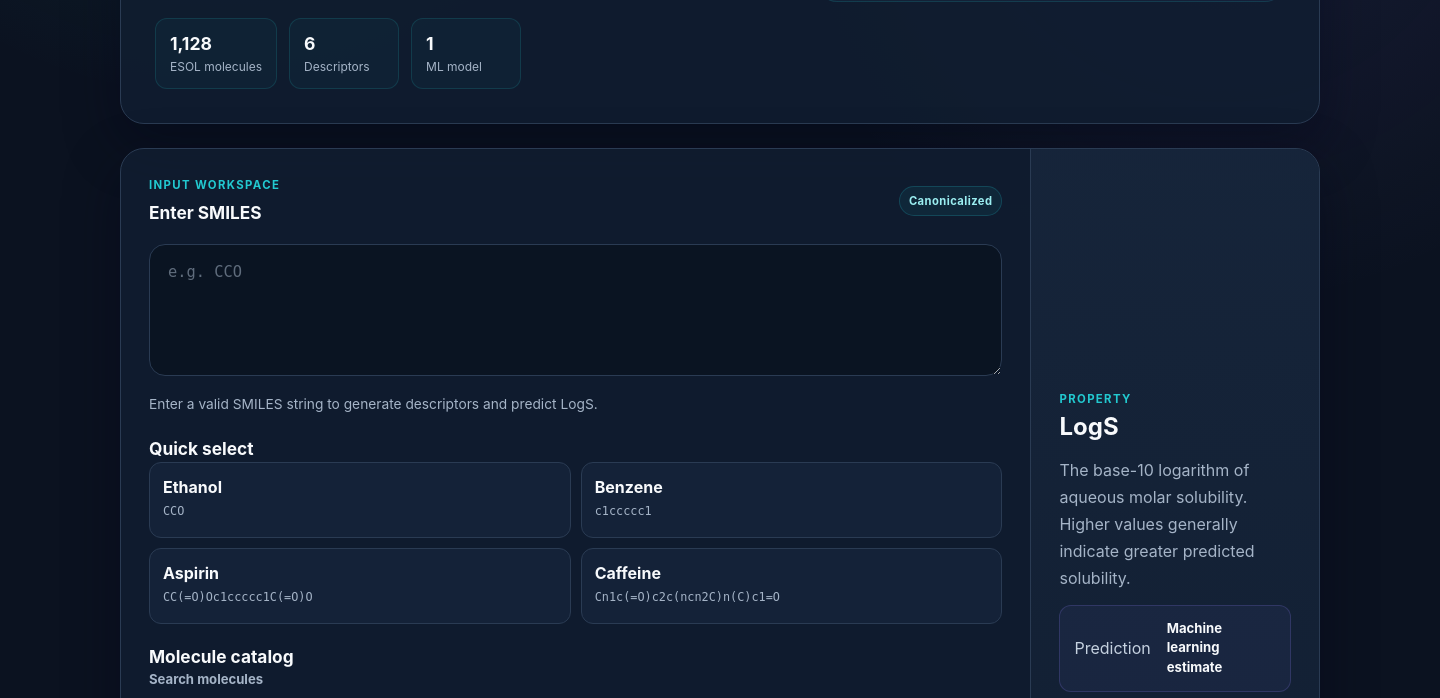
Test: Molecular Property Predictor › formats the aspirin formula with subscripts
The width and height of the screenshot is (1440, 698).
(page scrolled)
Type "CC(=O)Oc1ccccc1C(=O)O" into the text box named "SMILES".
click(576, 310); type("CC(=O)Oc1ccccc1C(=O)O")  # box [149, 244, 1002, 376]
(page scrolled)
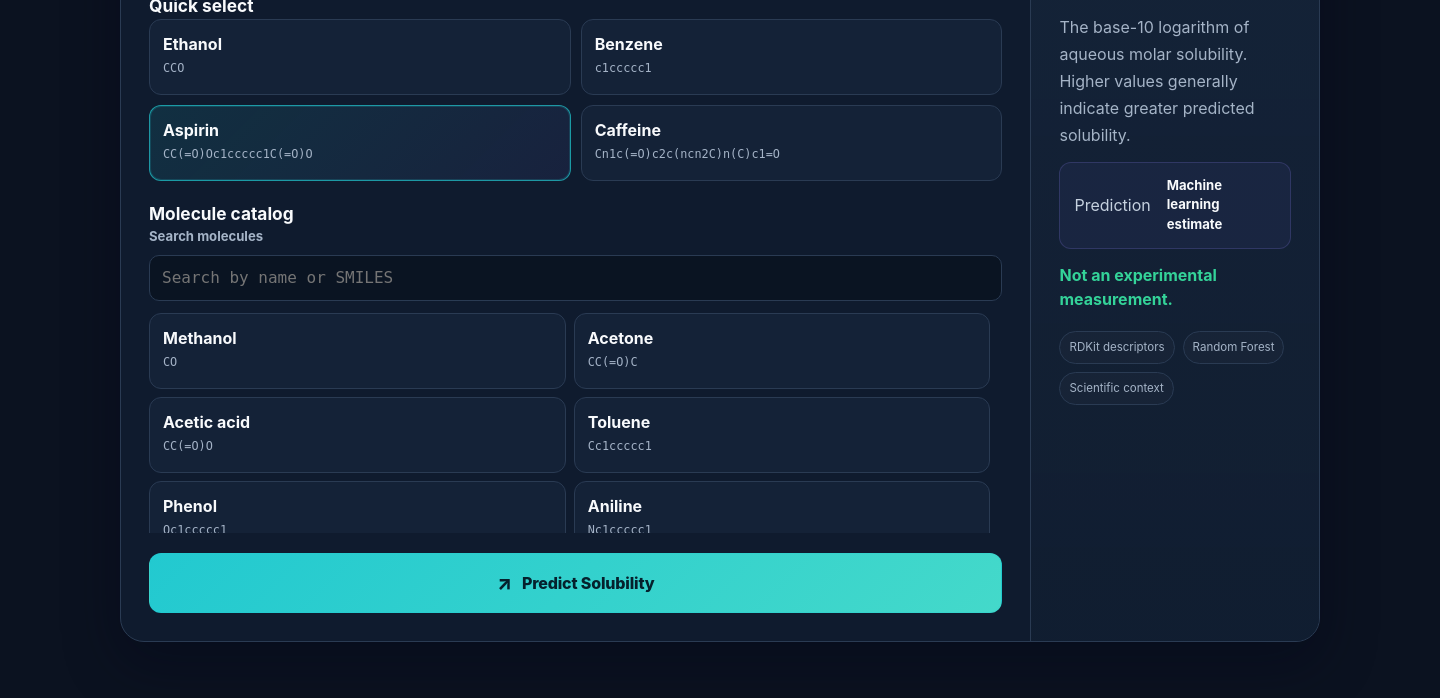
Click the button "↗ Predict Solubility".
click(576, 583)  # box [149, 553, 1002, 614]
(page scrolled)
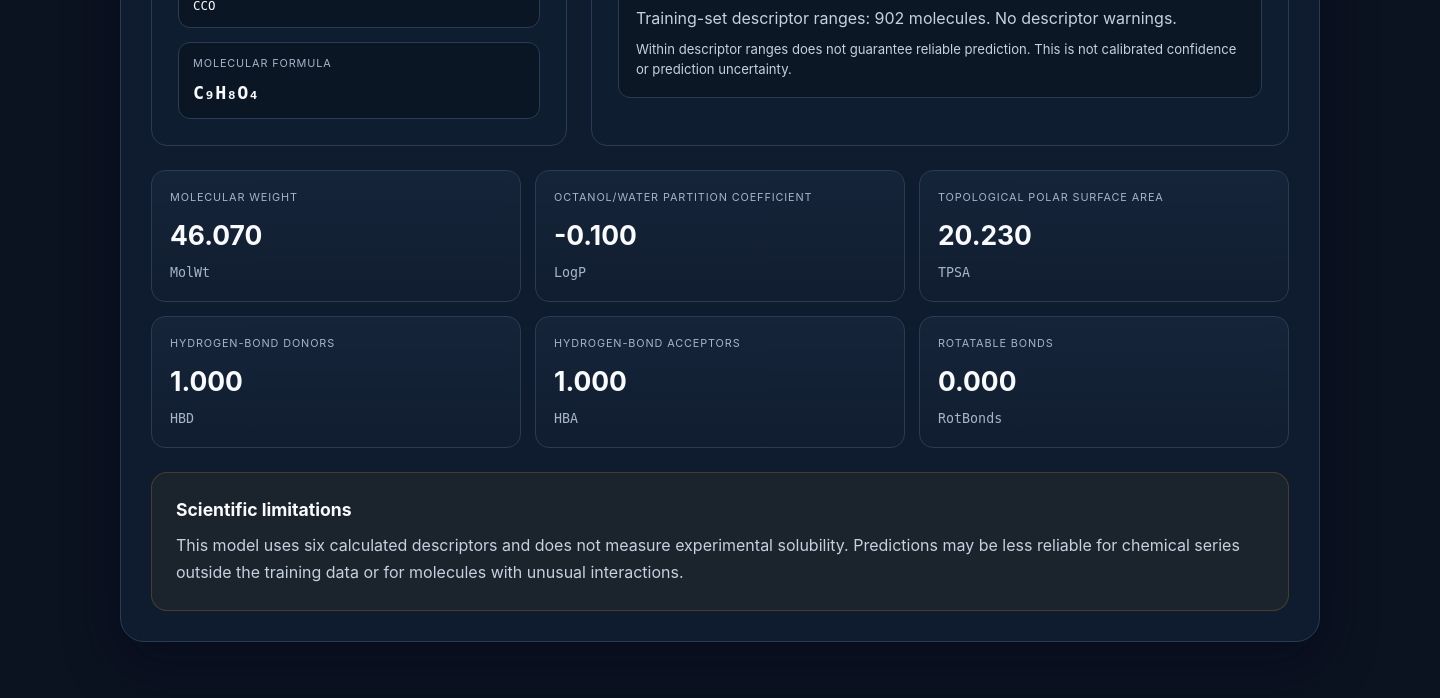
Check: the text "C₉H₈O₄" is shown, box [193, 82, 259, 103]
